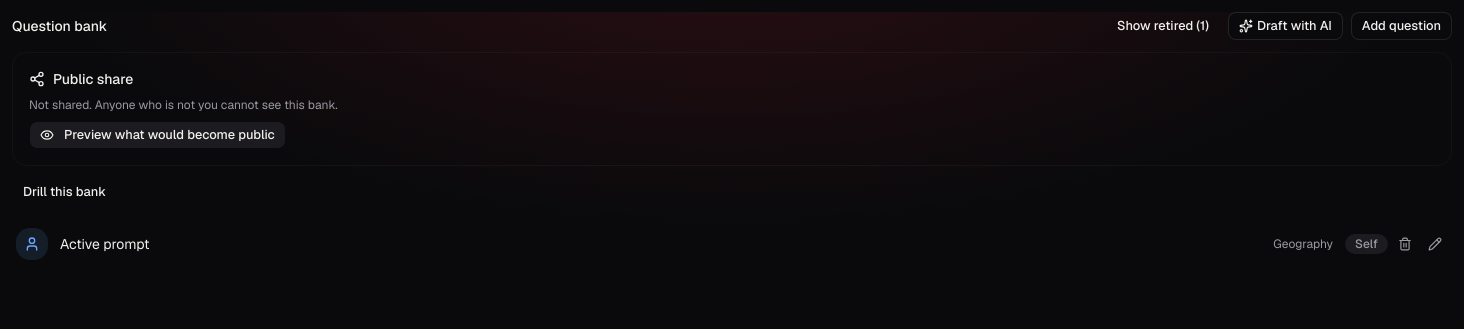
QuestionBankPanel › hides retired questions by default, behind a Show retired toggle
Check: the text "Active prompt" is shown, box [60,235,150,253]
Check: the text "Retired prompt" is not shown
Click the button "Show retired (1)" at (1163, 26), box [1106,12,1220,40]
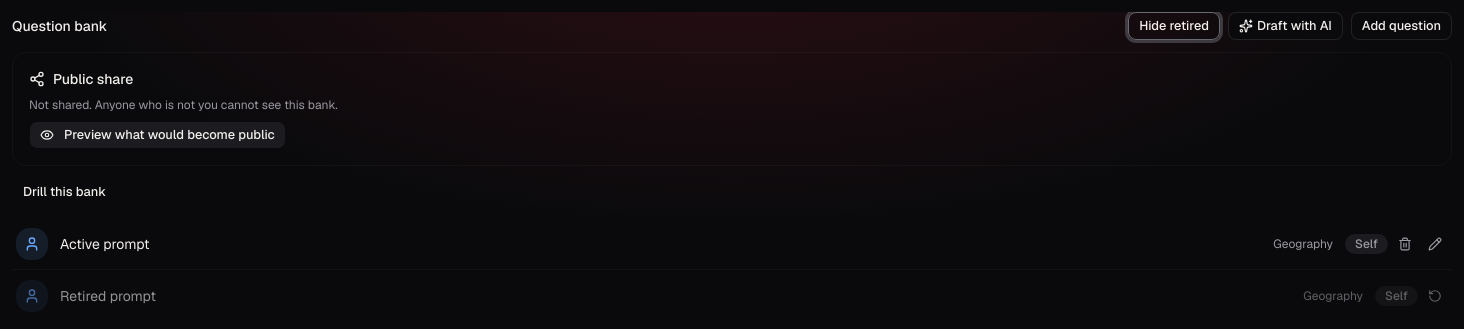
Check: the text "Retired prompt" is shown, box [60,287,156,305]
Click the button "Hide retired" at (1174, 26), box [1128,12,1220,40]
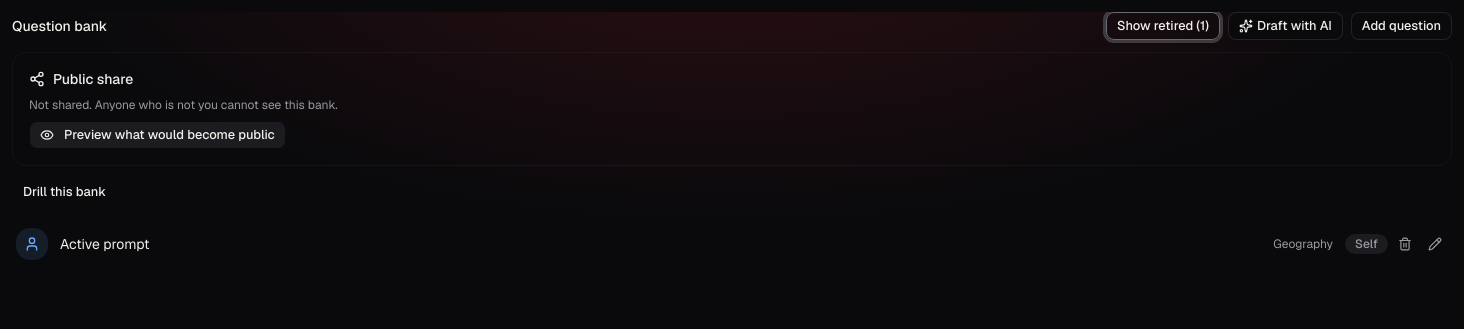
Check: the text "Retired prompt" is gone
